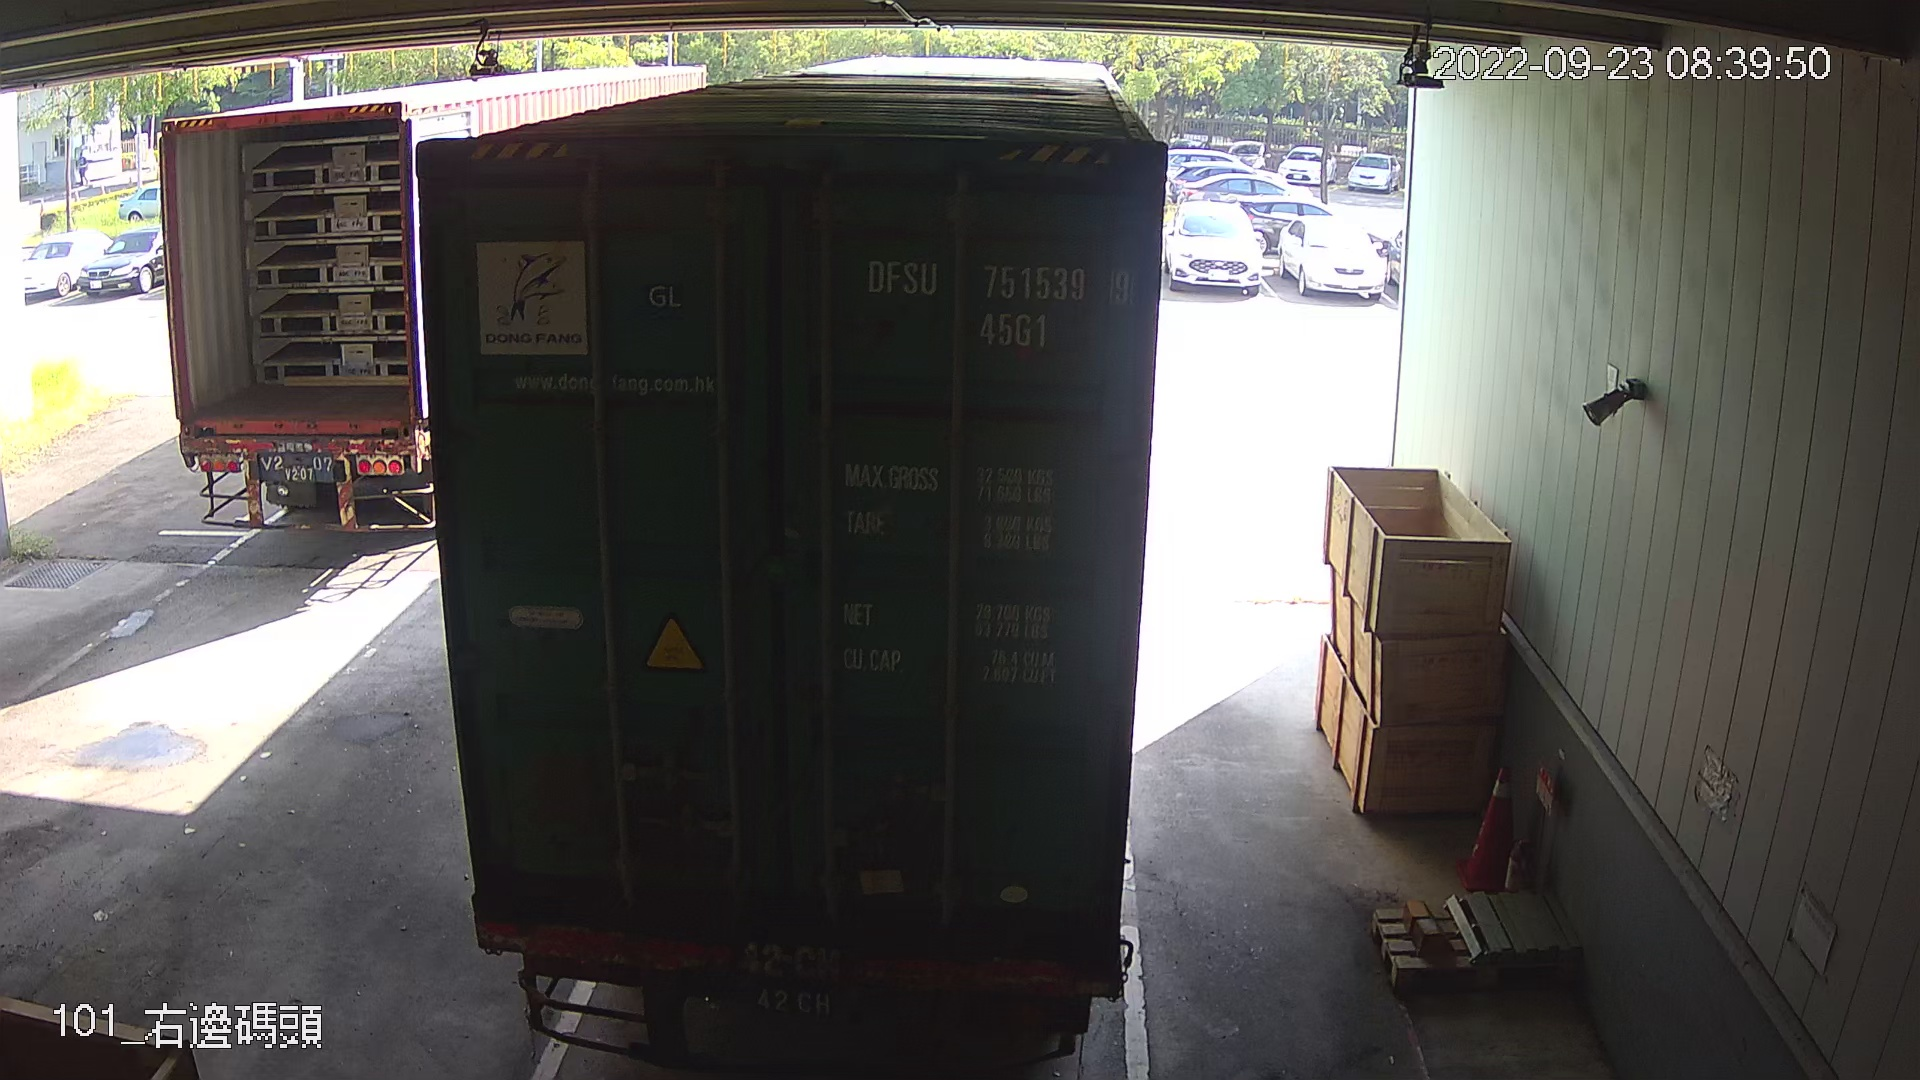container: (856, 244, 1141, 357)
